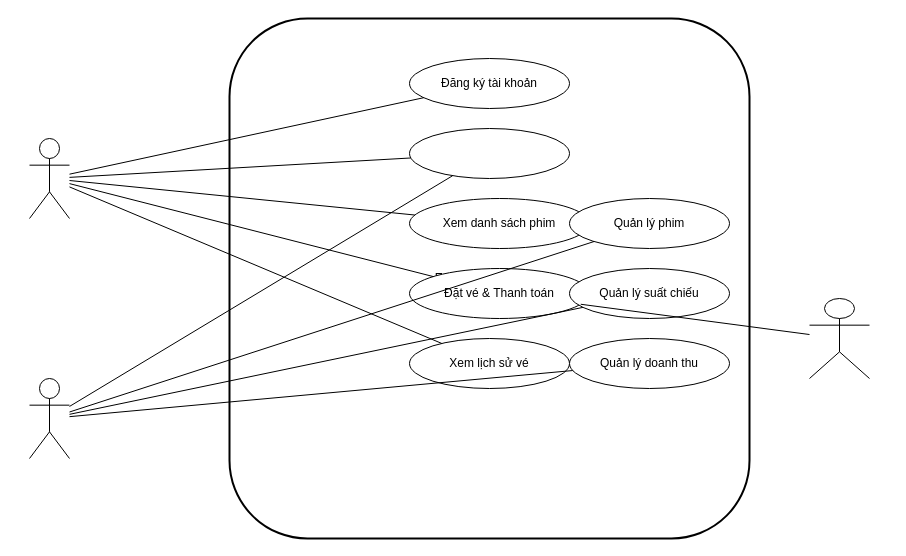
Some shapes in this 906 by 556 pixel diagram are drawn without their labels. The centre of each missing label's shape, as x and y in pixels:
"Admin" goes at (49,418).
"Khách hàng" goes at (49,178).
"Payment Gateway" goes at (839,338).
"Đăng nhập" goes at (489,153).
